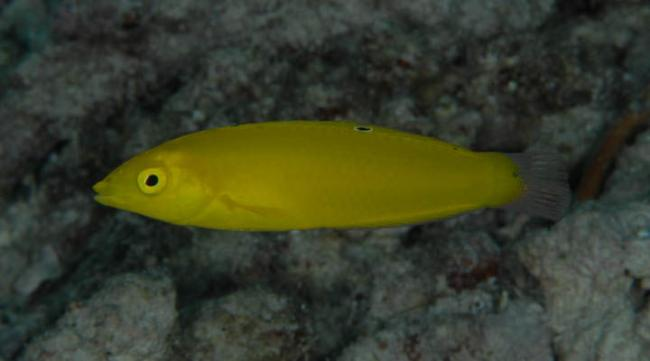fish: (92, 119, 569, 232)
